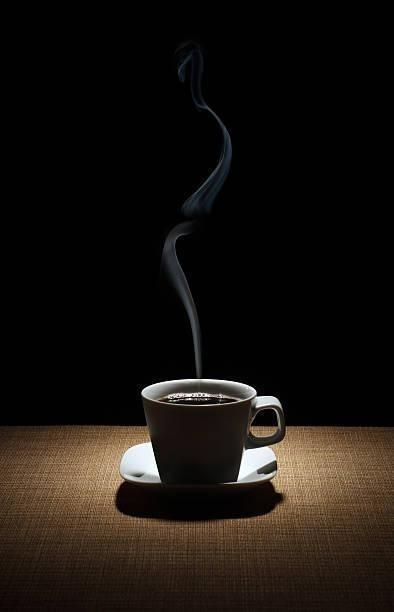cup-handle: (140, 377, 287, 485)
